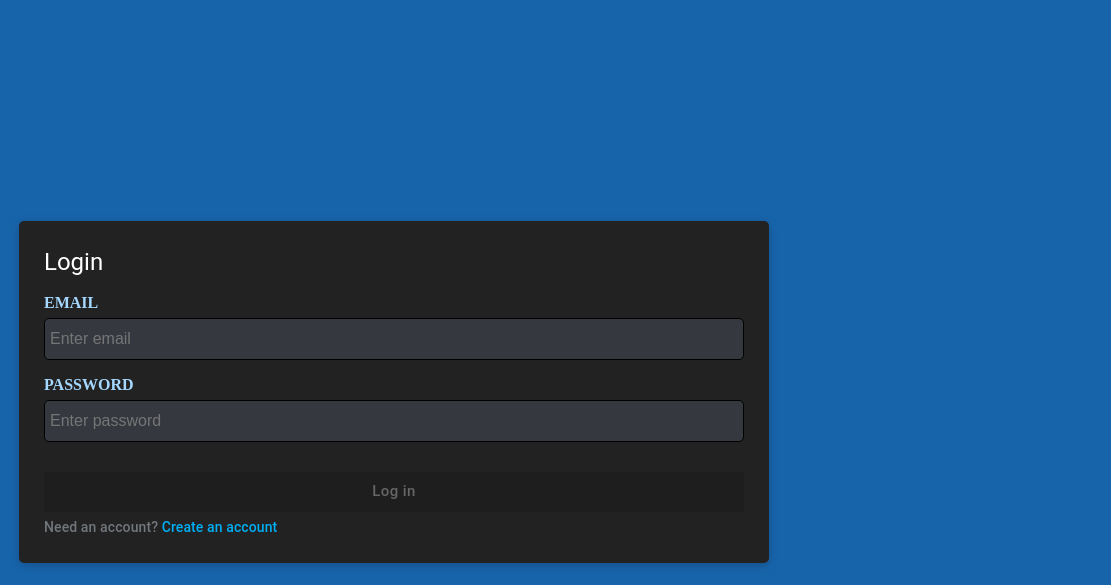
Scenario: Login Functionality Error test user not registered › displays an error message on unsuccessful login
Type "lol@gmail.com" into the field with test id "email-login-data" at {"x": 394, "y": 339}, box [44, 318, 744, 360]
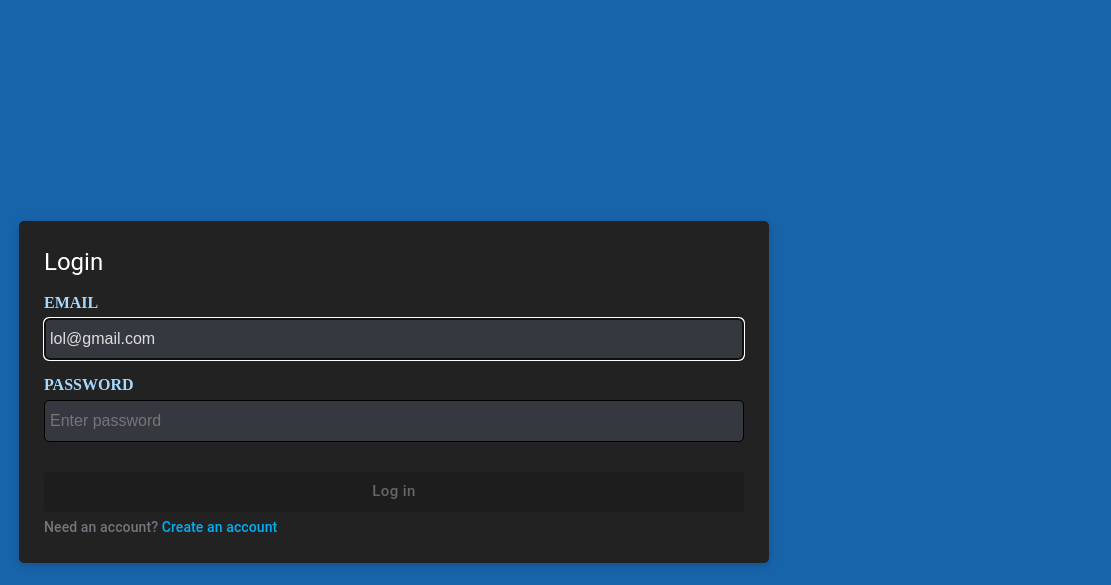
Type "wrongpass" into the password field with test id "password-login-data" at {"x": 394, "y": 421}, box [44, 400, 744, 442]
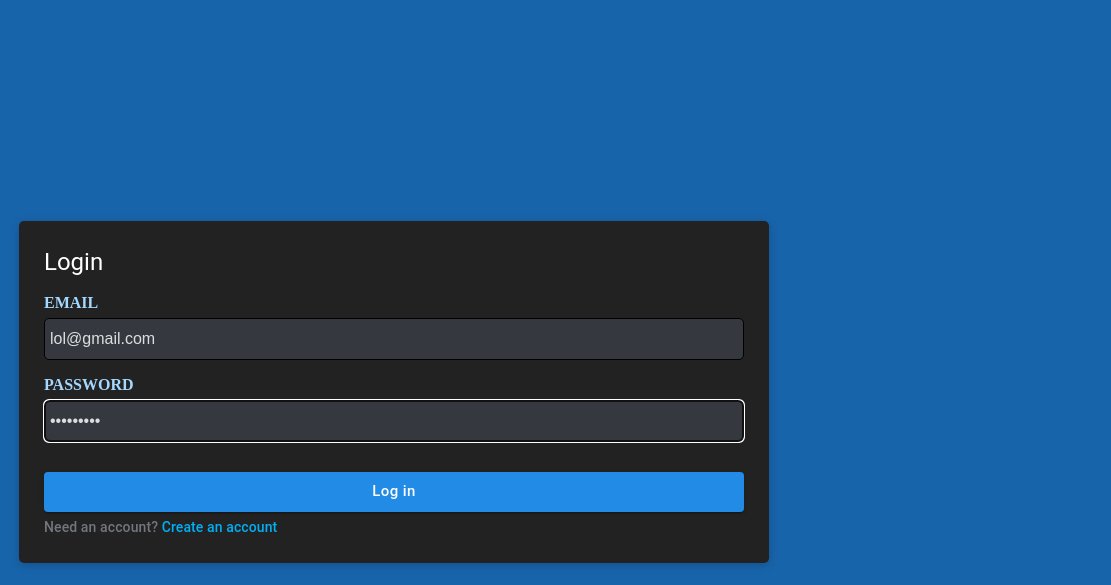
Click the button with test id "login-button" at {"x": 394, "y": 492}, box [44, 472, 744, 512]
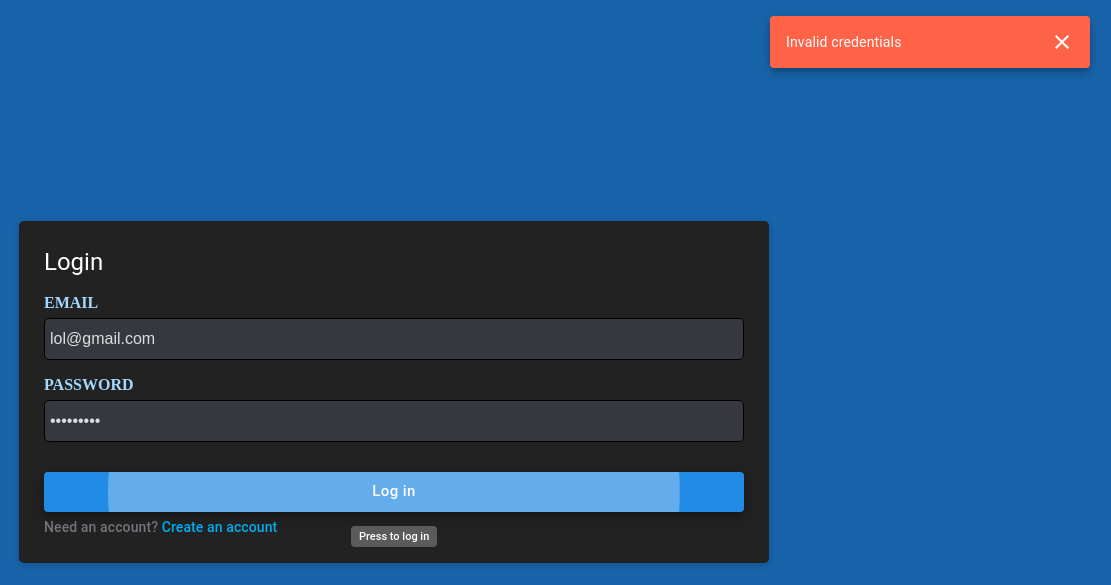
Now the text "Invalid credentials" is shown, box [786, 34, 902, 50]
